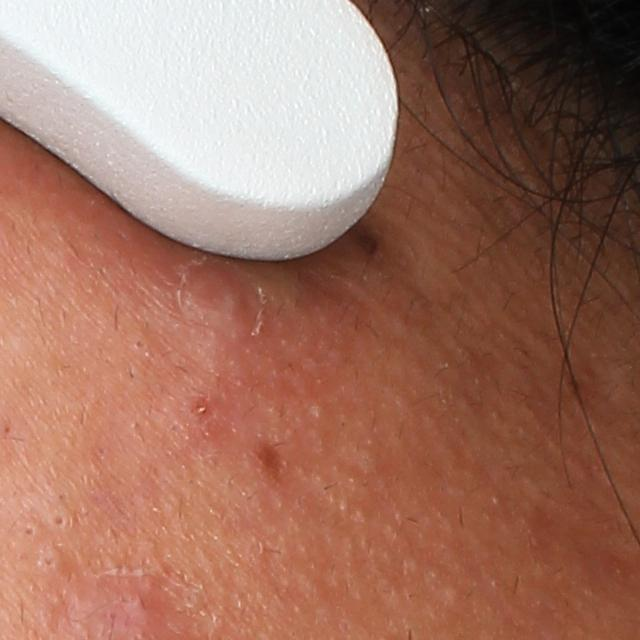comedo: (33, 544, 65, 578), (19, 522, 41, 551), (49, 508, 72, 532)
